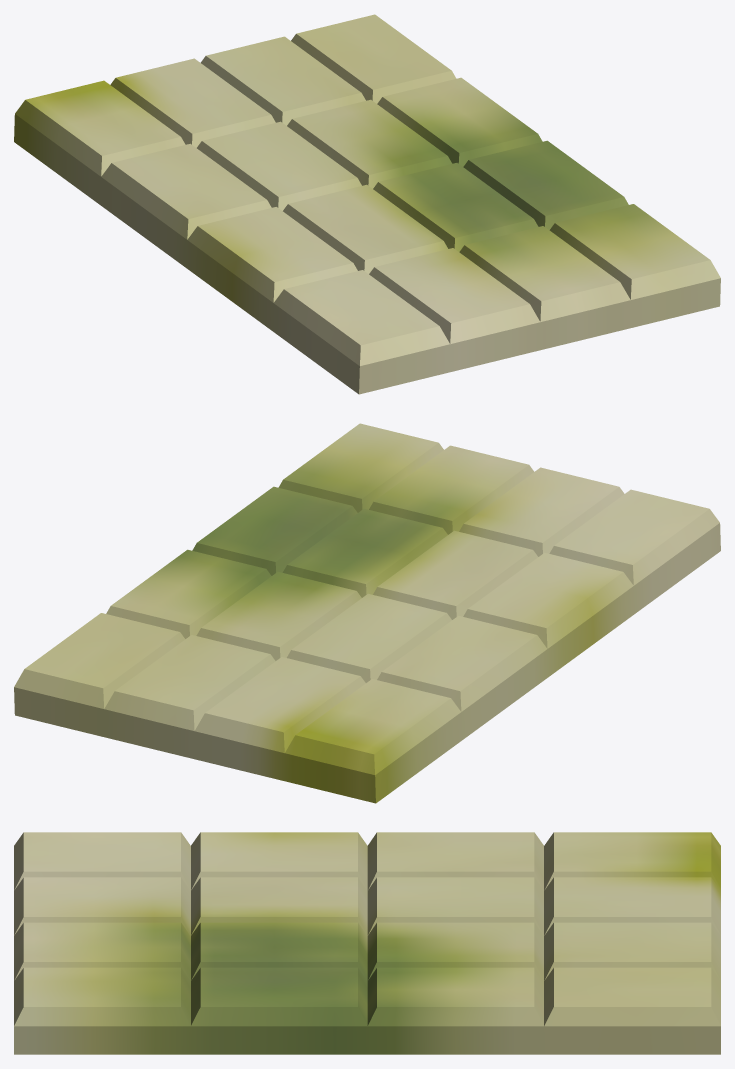
The model's file is PLF0110152.fbx.
The picture shows the model from 3 angles, top to bottom: view 1: azimuth 30°, elevation 25°; view 2: azimuth 150°, elevation 25°; view 3: azimuth 270°, elevation 25°; orthographic projection. The views are drawn at different scales.
Parts seen in each view (by area): view 1: smPLF0110152; view 2: smPLF0110152; view 3: smPLF0110152.
Part boxes in pixels (bbox=[...]): smPLF0110152: bbox=[14, 14, 720, 394]; smPLF0110152: bbox=[14, 423, 720, 803]; smPLF0110152: bbox=[14, 832, 720, 1054].
Bounding box in the file's own units: 163 × 18.96 × 269.
